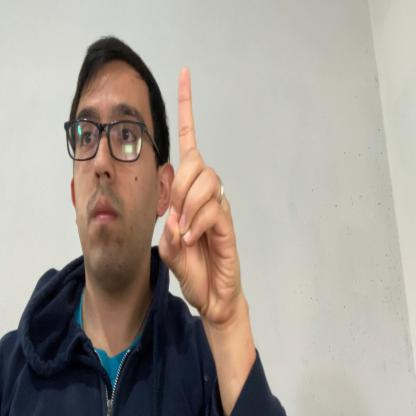D: (157, 64, 237, 322)
